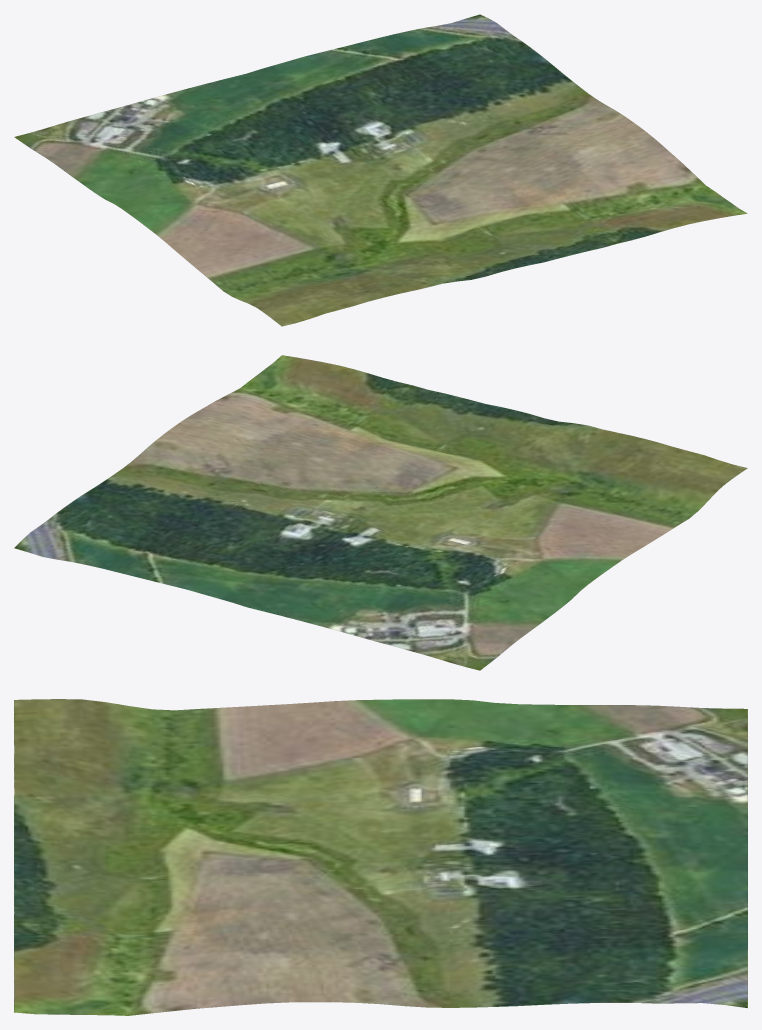
3 renders of one model, top to bottom at view 1: azimuth 30°, elevation 25°; view 2: azimuth 150°, elevation 25°; view 3: azimuth 270°, elevation 25°, orthographic. The views are drawn at different scales.
Size of the model in its own units: 975 by 28.8 by 971.
Materials: 1 (1 with a texture image).
